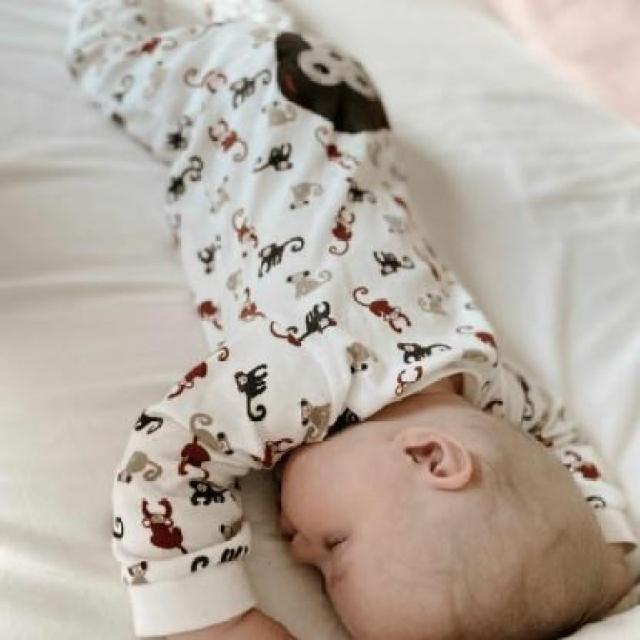baby: (108, 74, 636, 638)
